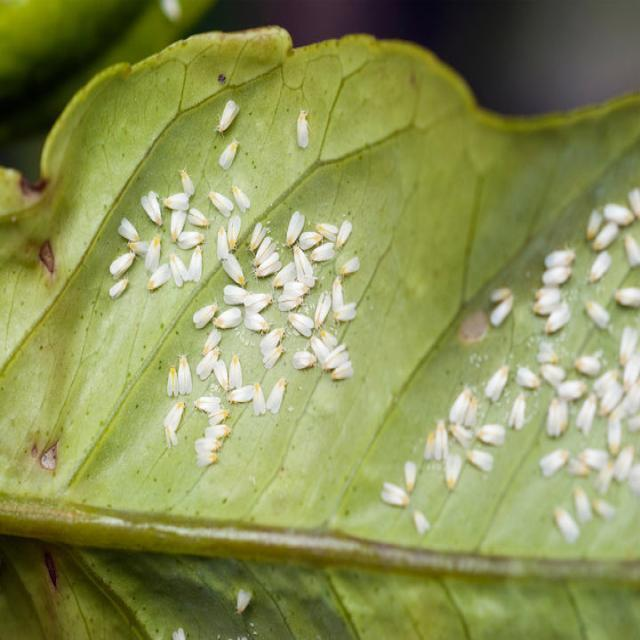Whiteflies: (111, 171, 381, 452), (436, 154, 640, 510), (209, 86, 243, 138), (214, 125, 245, 180), (137, 185, 171, 234), (293, 104, 322, 148), (377, 483, 413, 518)
